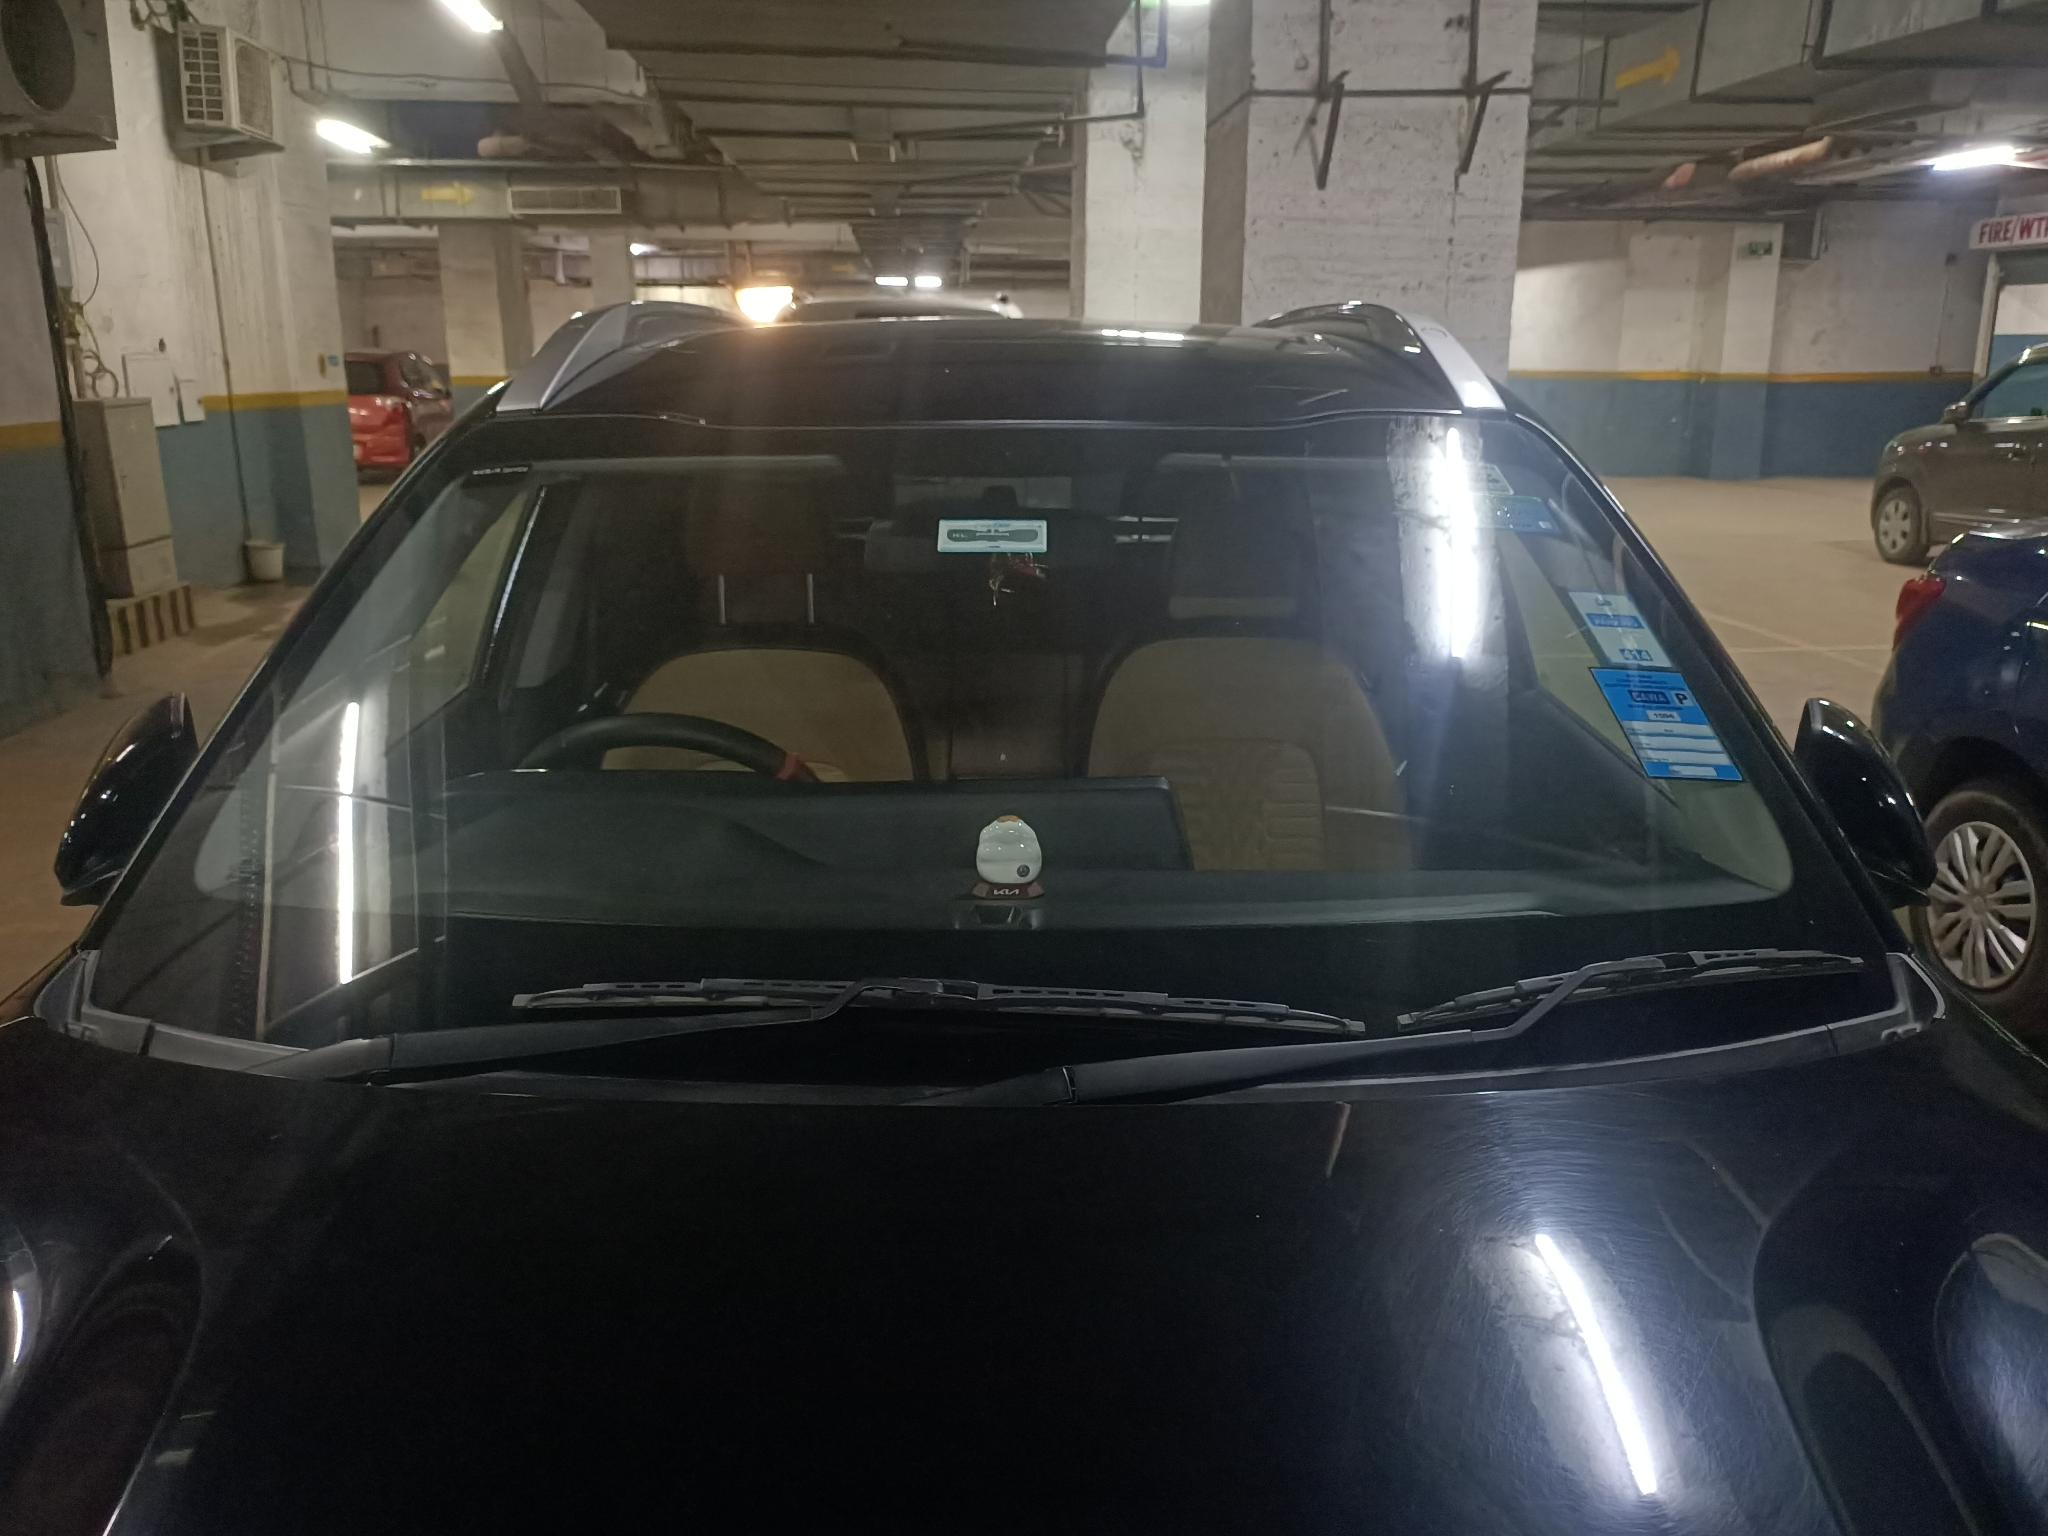FastTag: (937, 516, 1058, 561)
not a FastTag: (1588, 665, 1751, 802), (1447, 460, 1563, 542), (1569, 587, 1671, 671)
